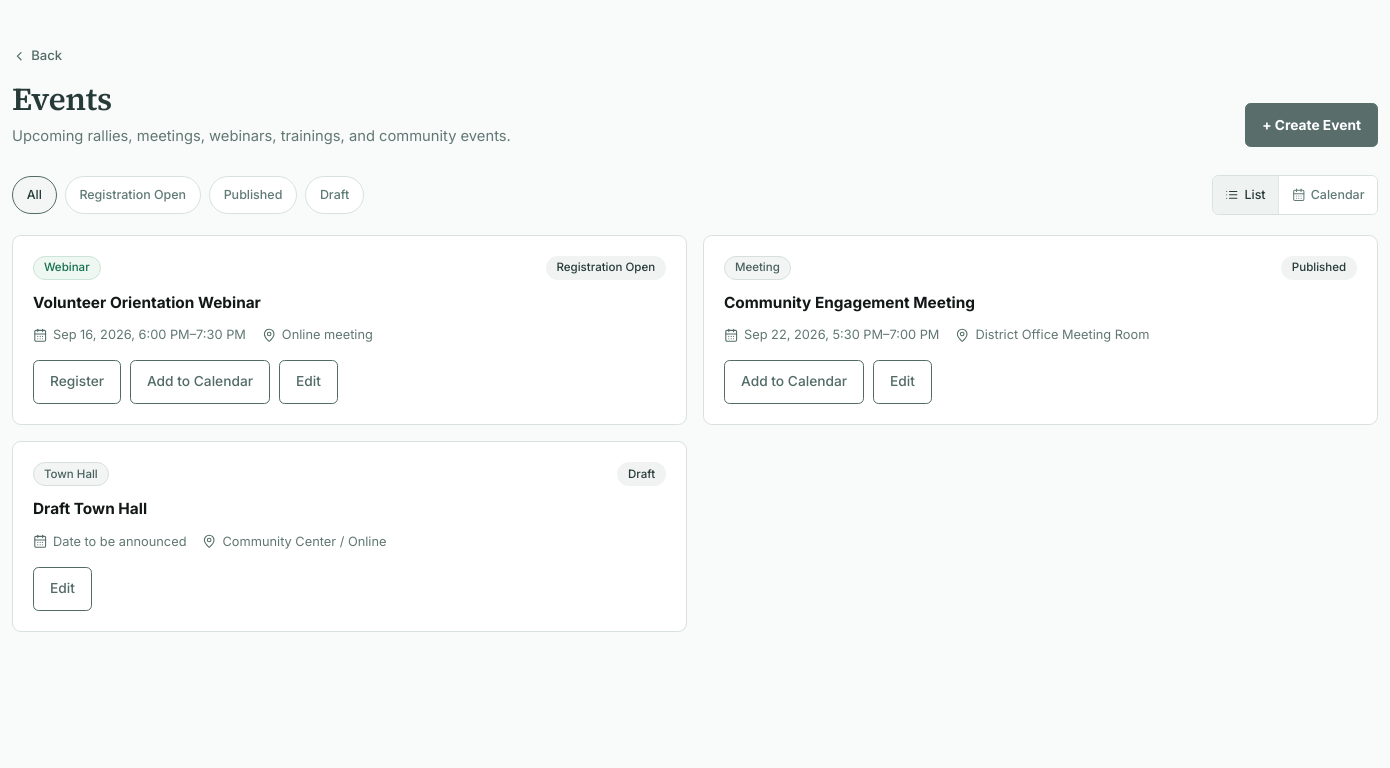
Test case: Events › uses the same administrator status filter in List and Calendar views
Later steps or results of the test are not shown.
Expected: the heading "Draft Town Hall" is shown, [33,499,147,520]
Step 1. Click the button "Published" → (253, 195), box [209,176,297,214]
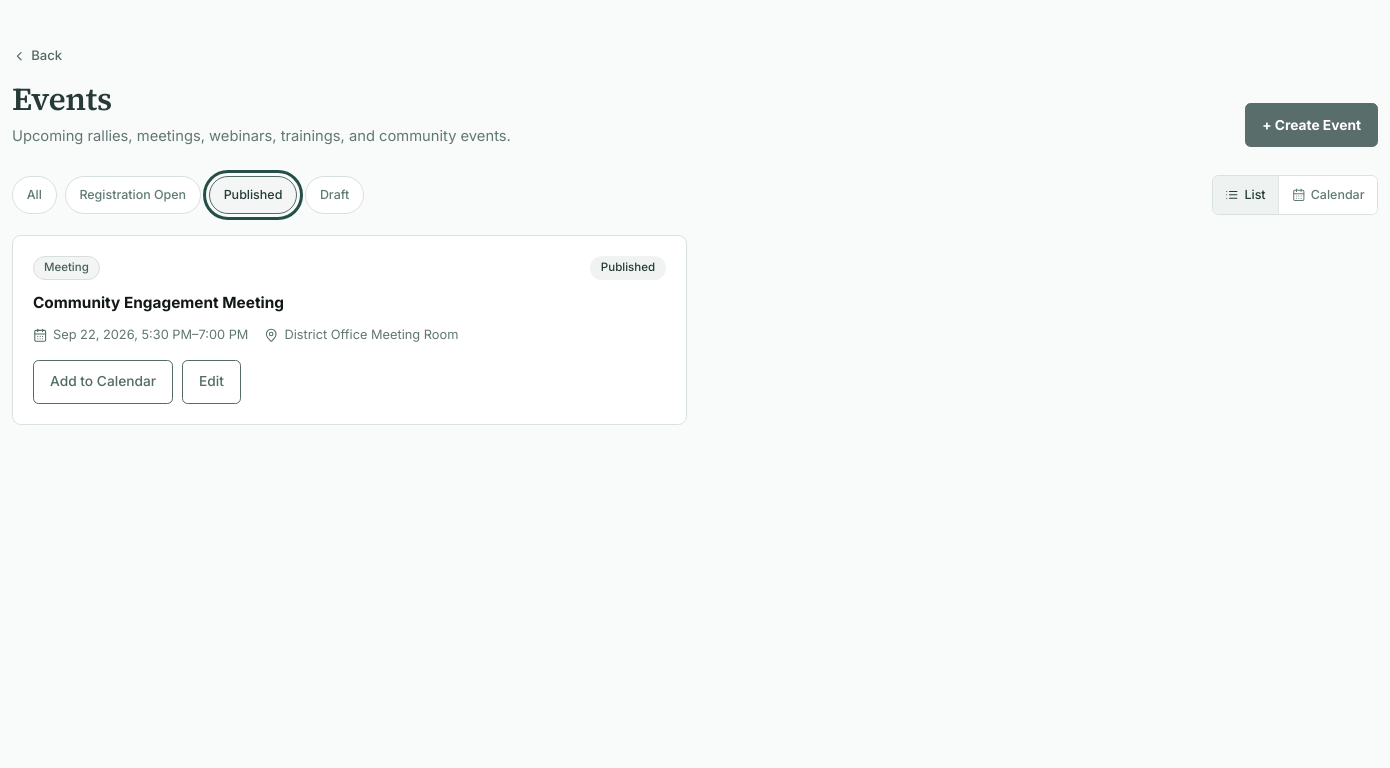
Expected: the heading "Community Engagement Meeting" is shown, [33,293,284,314]
Expected: the button "Volunteer Orientation Webinar" is gone
